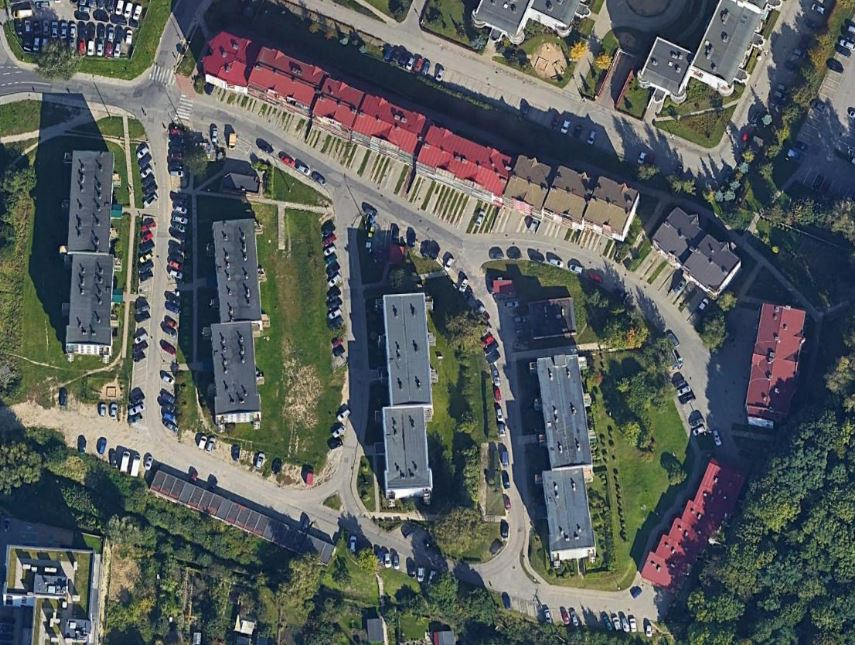block of flats: (370, 280, 445, 505), (535, 341, 603, 573), (57, 136, 126, 364), (632, 1, 787, 101), (206, 207, 268, 433), (738, 296, 819, 438)
terrace house: (192, 19, 638, 242), (639, 455, 756, 592), (643, 200, 741, 302)
